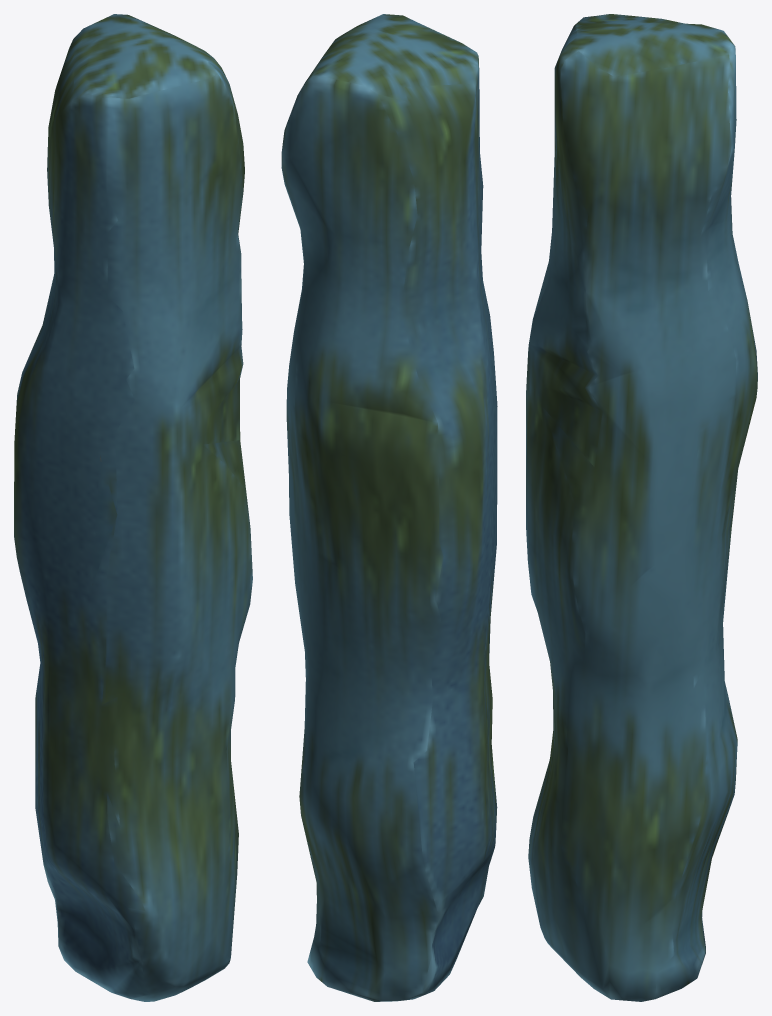
File: Cliff_tall.fbx
3 views of the same model, side by side, from view 1: azimuth 30°, elevation 25°; view 2: azimuth 150°, elevation 25°; view 3: azimuth 270°, elevation 25° (orthographic).
Visible parts, largest first — view 1: Cylinder.001; view 2: Cylinder.001; view 3: Cylinder.001.
Boxes of the visible parts, x1,y1,x2,y2 form: Cylinder.001: (14,14,252,1001); Cylinder.001: (281,14,497,1001); Cylinder.001: (526,14,757,1001).
Bounding box in the file's own units: 166 × 722 × 161.
